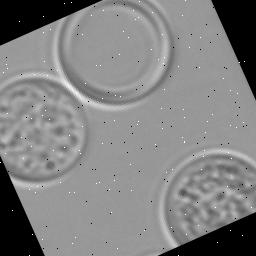picoshell: (51, 0, 173, 111), (0, 72, 87, 189), (157, 149, 256, 248)
